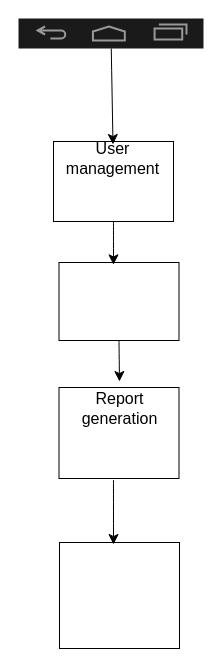
This 221x666 diagram has some shape labels left out. Each missing label, with the box of its shape:
Settings management: (58, 542, 180, 648)
Transaction monitoring: (58, 262, 179, 340)
